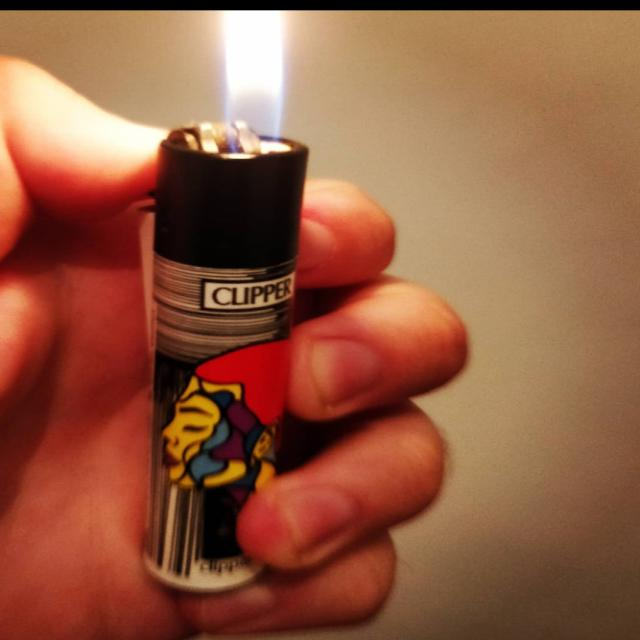fire: (219, 10, 284, 154)
